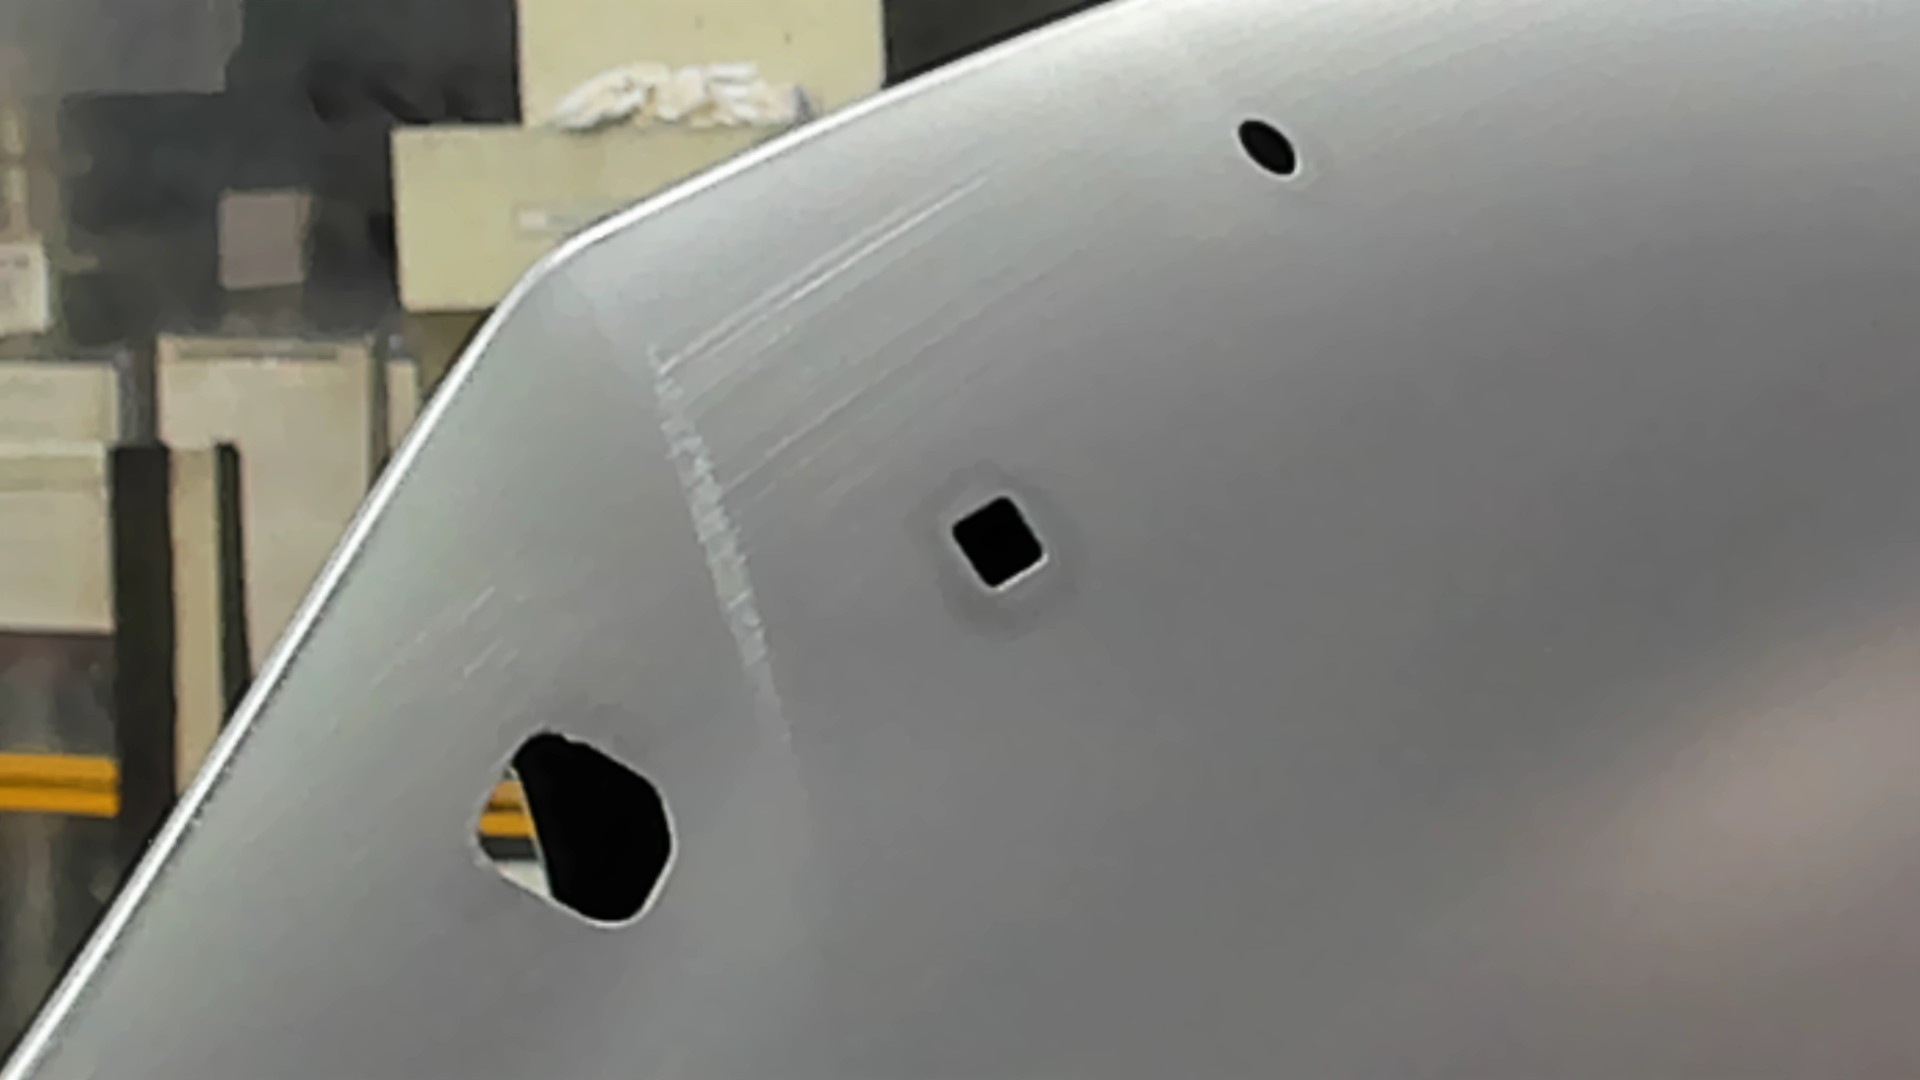capo: (1055, 182, 1920, 1080)
chico: (1234, 113, 1305, 179)
grande: (469, 720, 682, 932)
mediano: (945, 488, 1052, 596)
